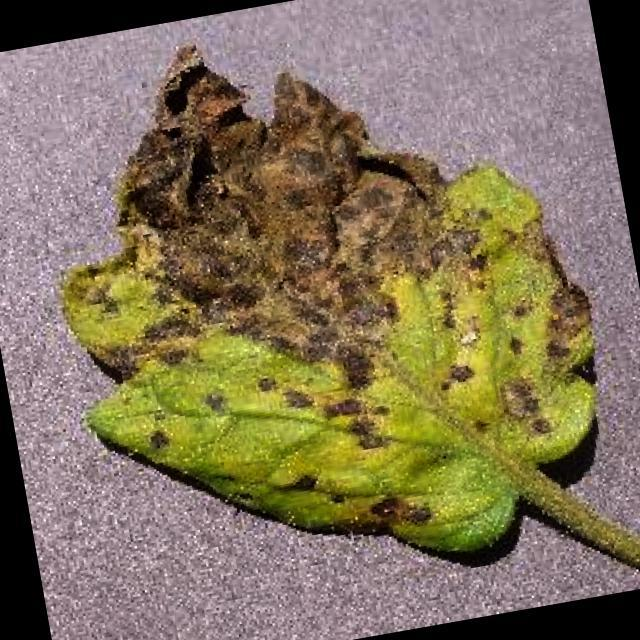Tomato Septoria spot leaf: (19, 0, 628, 613)
